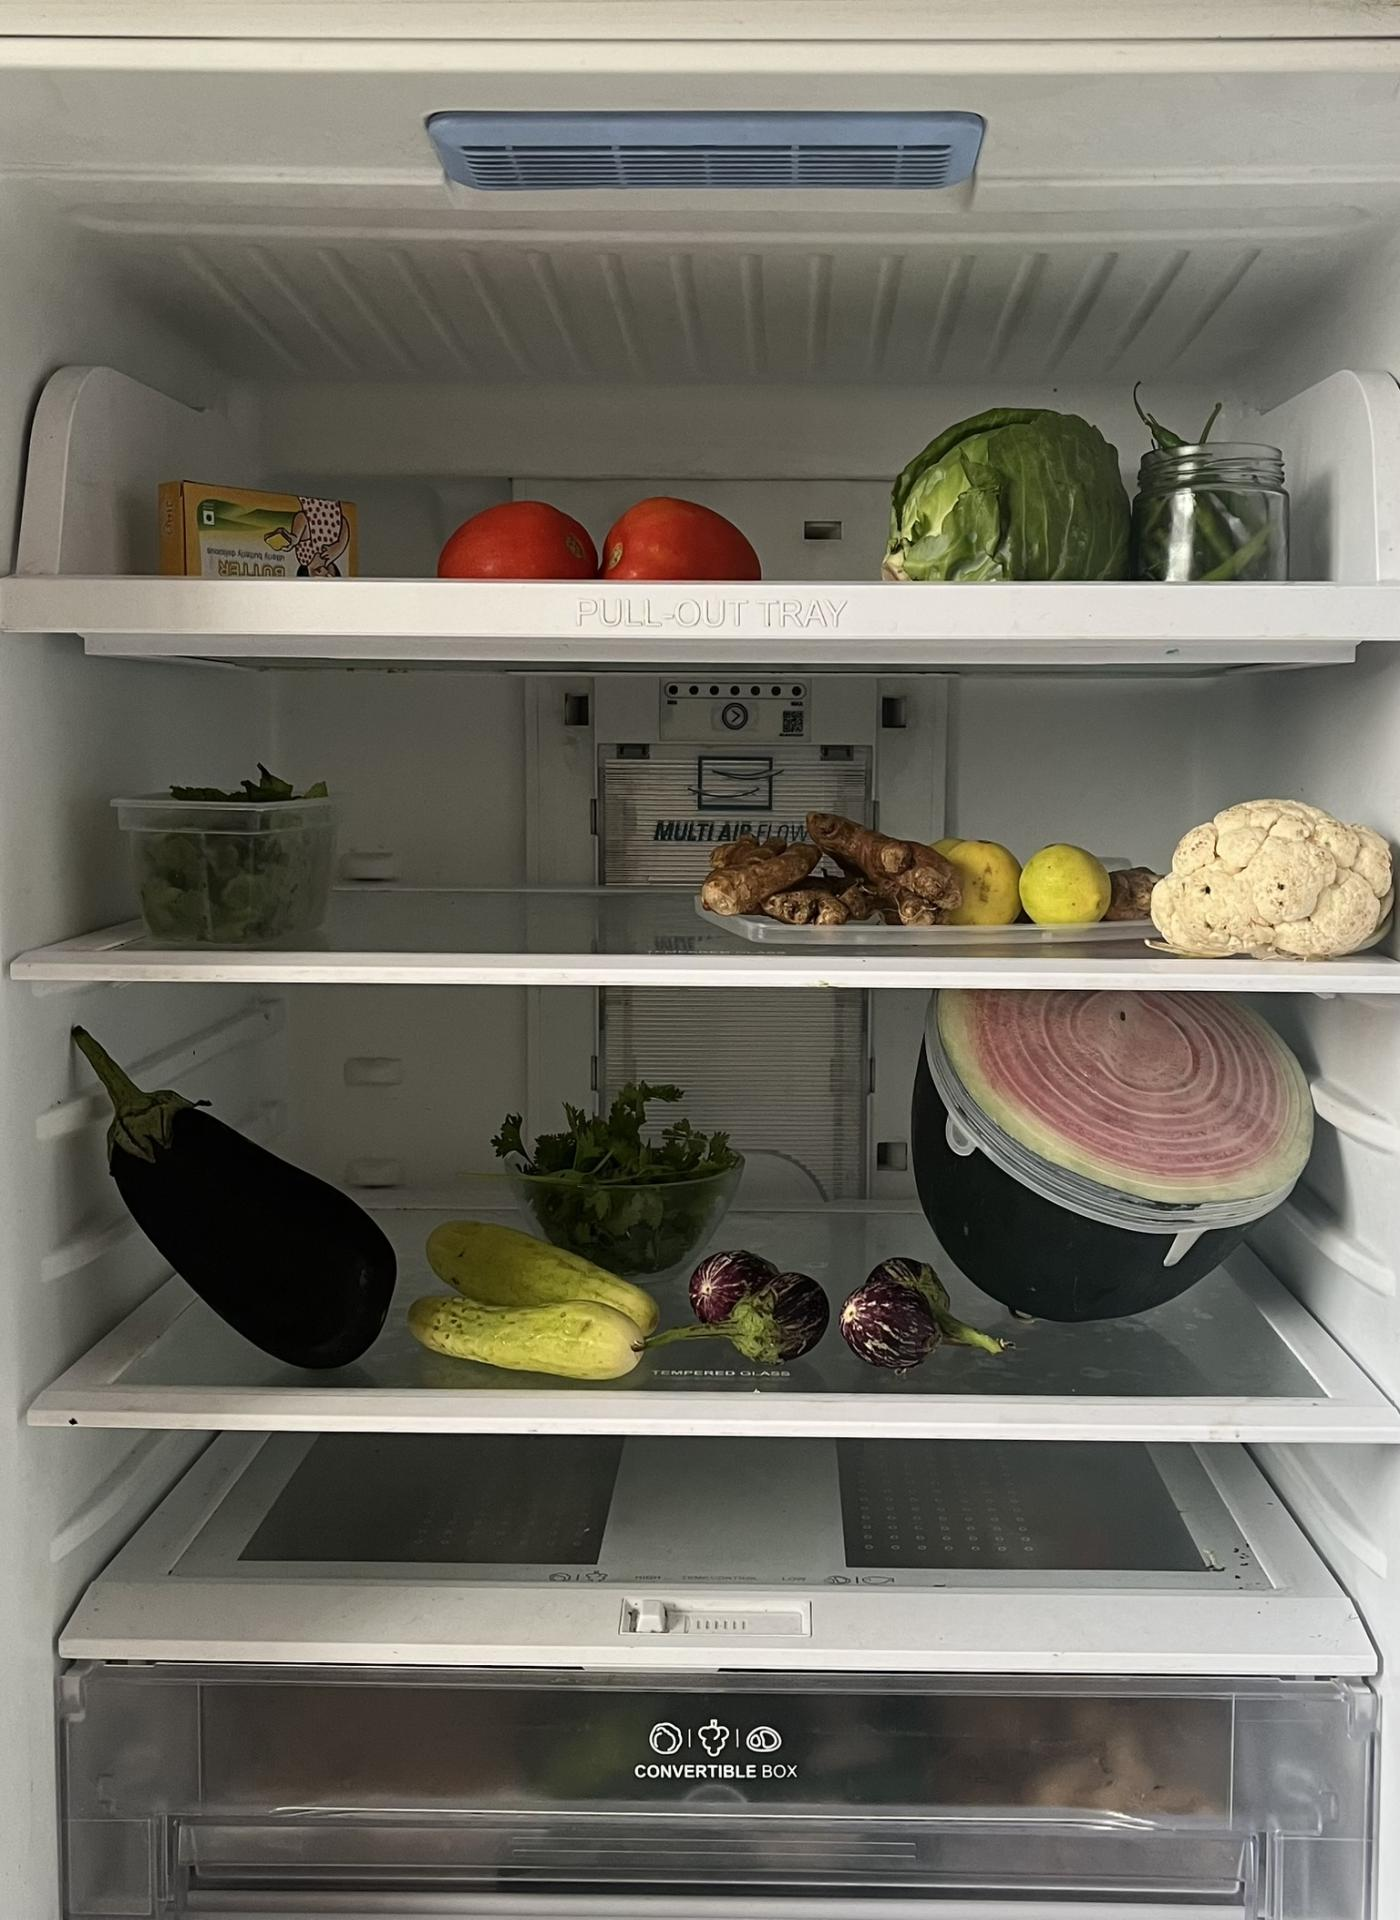butter: (155, 473, 365, 578)
cabbage: (890, 400, 1139, 578)
cauliflower: (1136, 775, 1400, 956)
chillies: (1124, 385, 1291, 584)
coriander: (498, 1072, 766, 1263)
cucumber: (407, 1209, 665, 1391)
ginger: (690, 800, 954, 929)
lemon: (939, 838, 1127, 924)
tomato: (440, 490, 762, 584)
watermelon: (911, 978, 1324, 1328)
